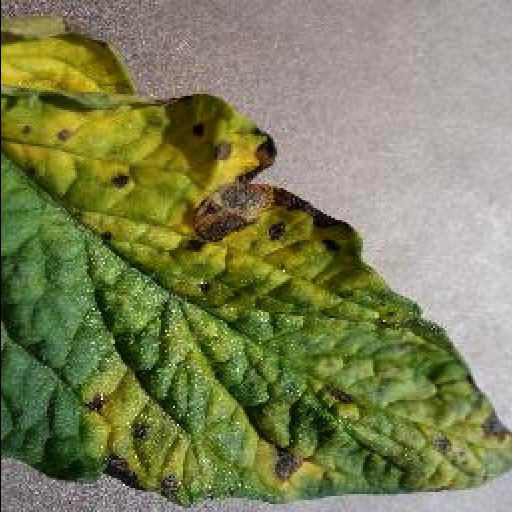disease_tomato: (0, 27, 512, 504)
